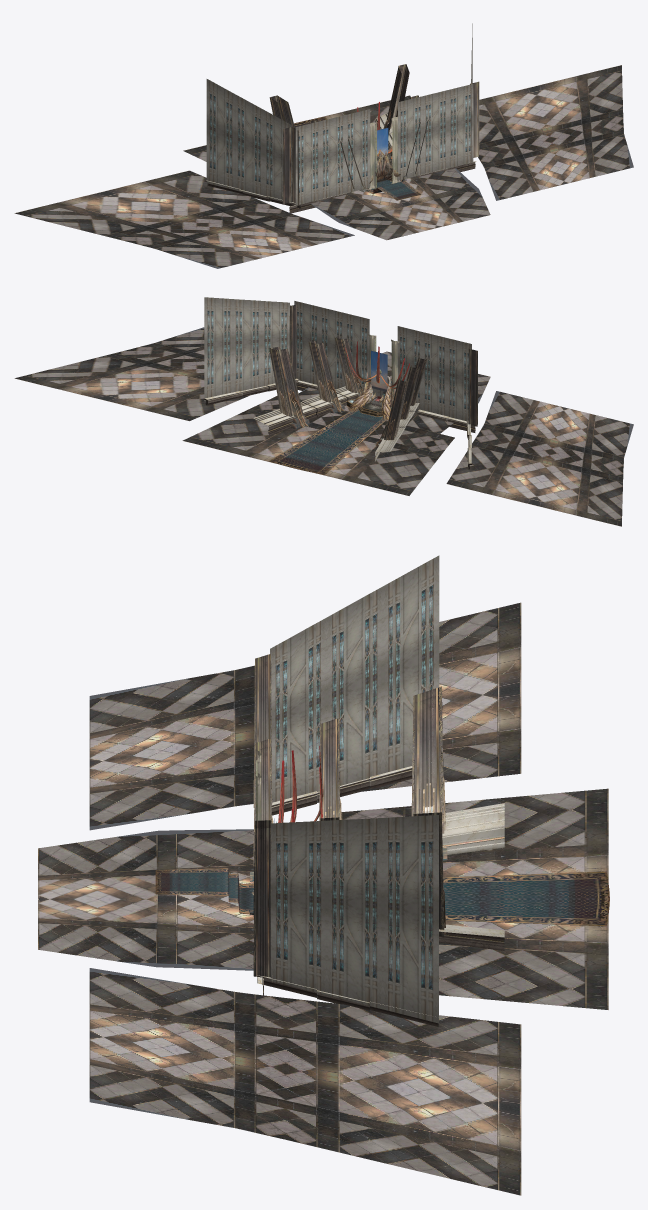
File: stageProb.fbx
3 renders of one model, top to bottom at view 1: azimuth 30°, elevation 25°; view 2: azimuth 150°, elevation 25°; view 3: azimuth 270°, elevation 25°, orthographic. The views are drawn at different scales.
Parts seen in each view (by area): view 1: Successor_floor, Successor_obj; view 2: Successor_floor, Successor_obj, Successor_Throne, Successor_sky; view 3: Successor_floor, Successor_obj.
Part boxes in pixels (left/top/right/bottom): Successor_floor: left=14, top=65, right=633, bottom=268; Successor_obj: left=205, top=23, right=479, bottom=213; Successor_floor: left=14, top=327, right=633, bottom=526; Successor_obj: left=204, top=297, right=477, bottom=469; Successor_Throne: left=349, top=376, right=391, bottom=420; Successor_sky: left=370, top=350, right=387, bottom=397; Successor_floor: left=38, top=602, right=609, bottom=1195; Successor_obj: left=250, top=555, right=504, bottom=1026.
Bounding box in the file's own units: 55.42 × 9.83 × 22.58.
4 materials, 4 textured.
